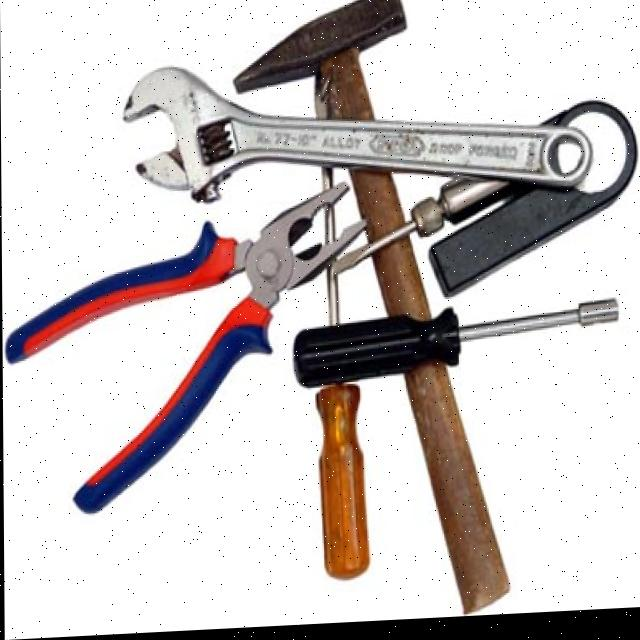Screwdriver: (293, 305, 618, 391), (316, 164, 368, 582), (332, 186, 509, 277)
